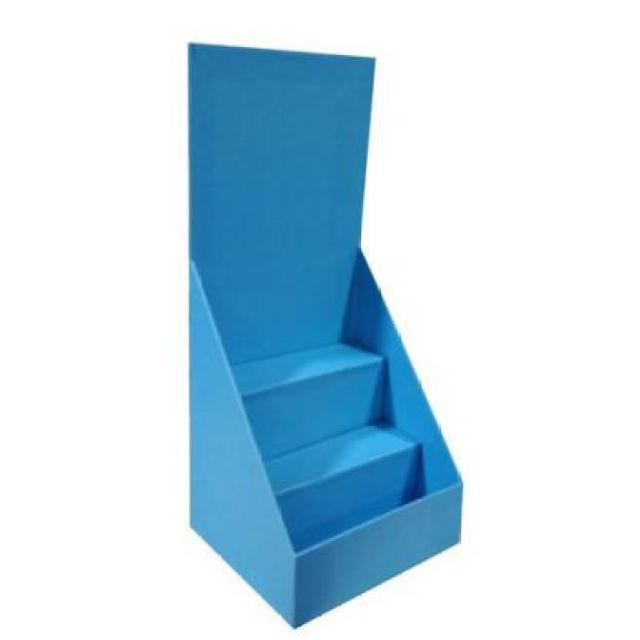box: (165, 26, 507, 632)
